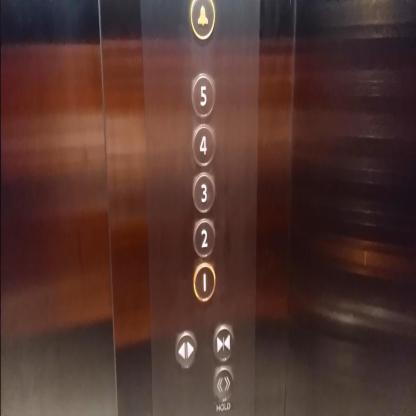1: (192, 260, 216, 304)
2: (191, 216, 217, 257)
3: (191, 171, 216, 214)
4: (190, 122, 216, 168)
5: (189, 71, 216, 120)
alarm: (190, 0, 216, 42)
close: (212, 322, 234, 363)
open: (174, 328, 198, 370), (212, 366, 234, 403)
